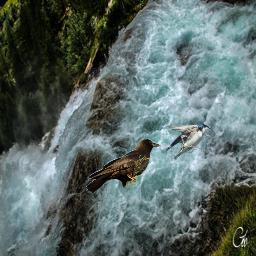Crow: (86, 137, 162, 195)
Swallow: (162, 123, 211, 160)
